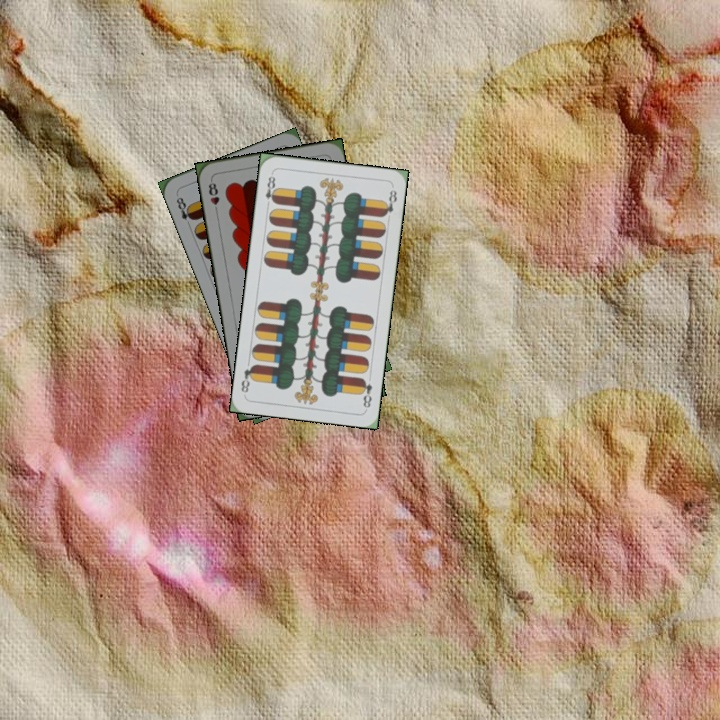E8: (172, 190, 197, 230), (261, 169, 280, 210), (356, 374, 375, 410)
H8: (204, 176, 222, 216)
